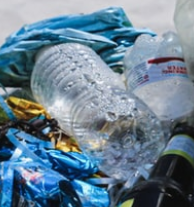garbage: (3, 26, 193, 207)
